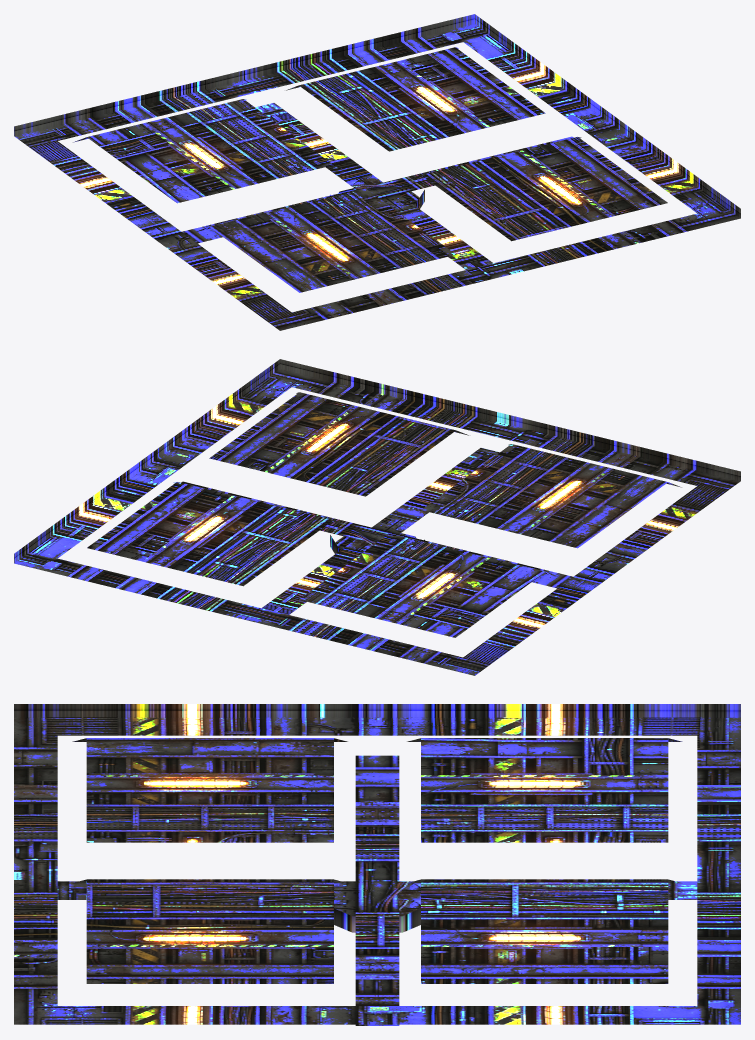
The model's file is ceiling_hazard.glb.
3 renders of one model, top to bottom at view 1: azimuth 30°, elevation 25°; view 2: azimuth 150°, elevation 25°; view 3: azimuth 270°, elevation 25°, orthographic. The views are drawn at different scales.
Parts seen in each view (by area): view 1: Ceiling_Hazard; view 2: Ceiling_Hazard; view 3: Ceiling_Hazard.
Boxes of the visible parts, x1,y1,x2,y2 form: Ceiling_Hazard: (14, 14, 740, 330); Ceiling_Hazard: (14, 359, 740, 675); Ceiling_Hazard: (14, 704, 740, 1025).
Size of the model in its own units: 1 by 0.08 by 1.
Materials: 1 (1 with a texture image).
